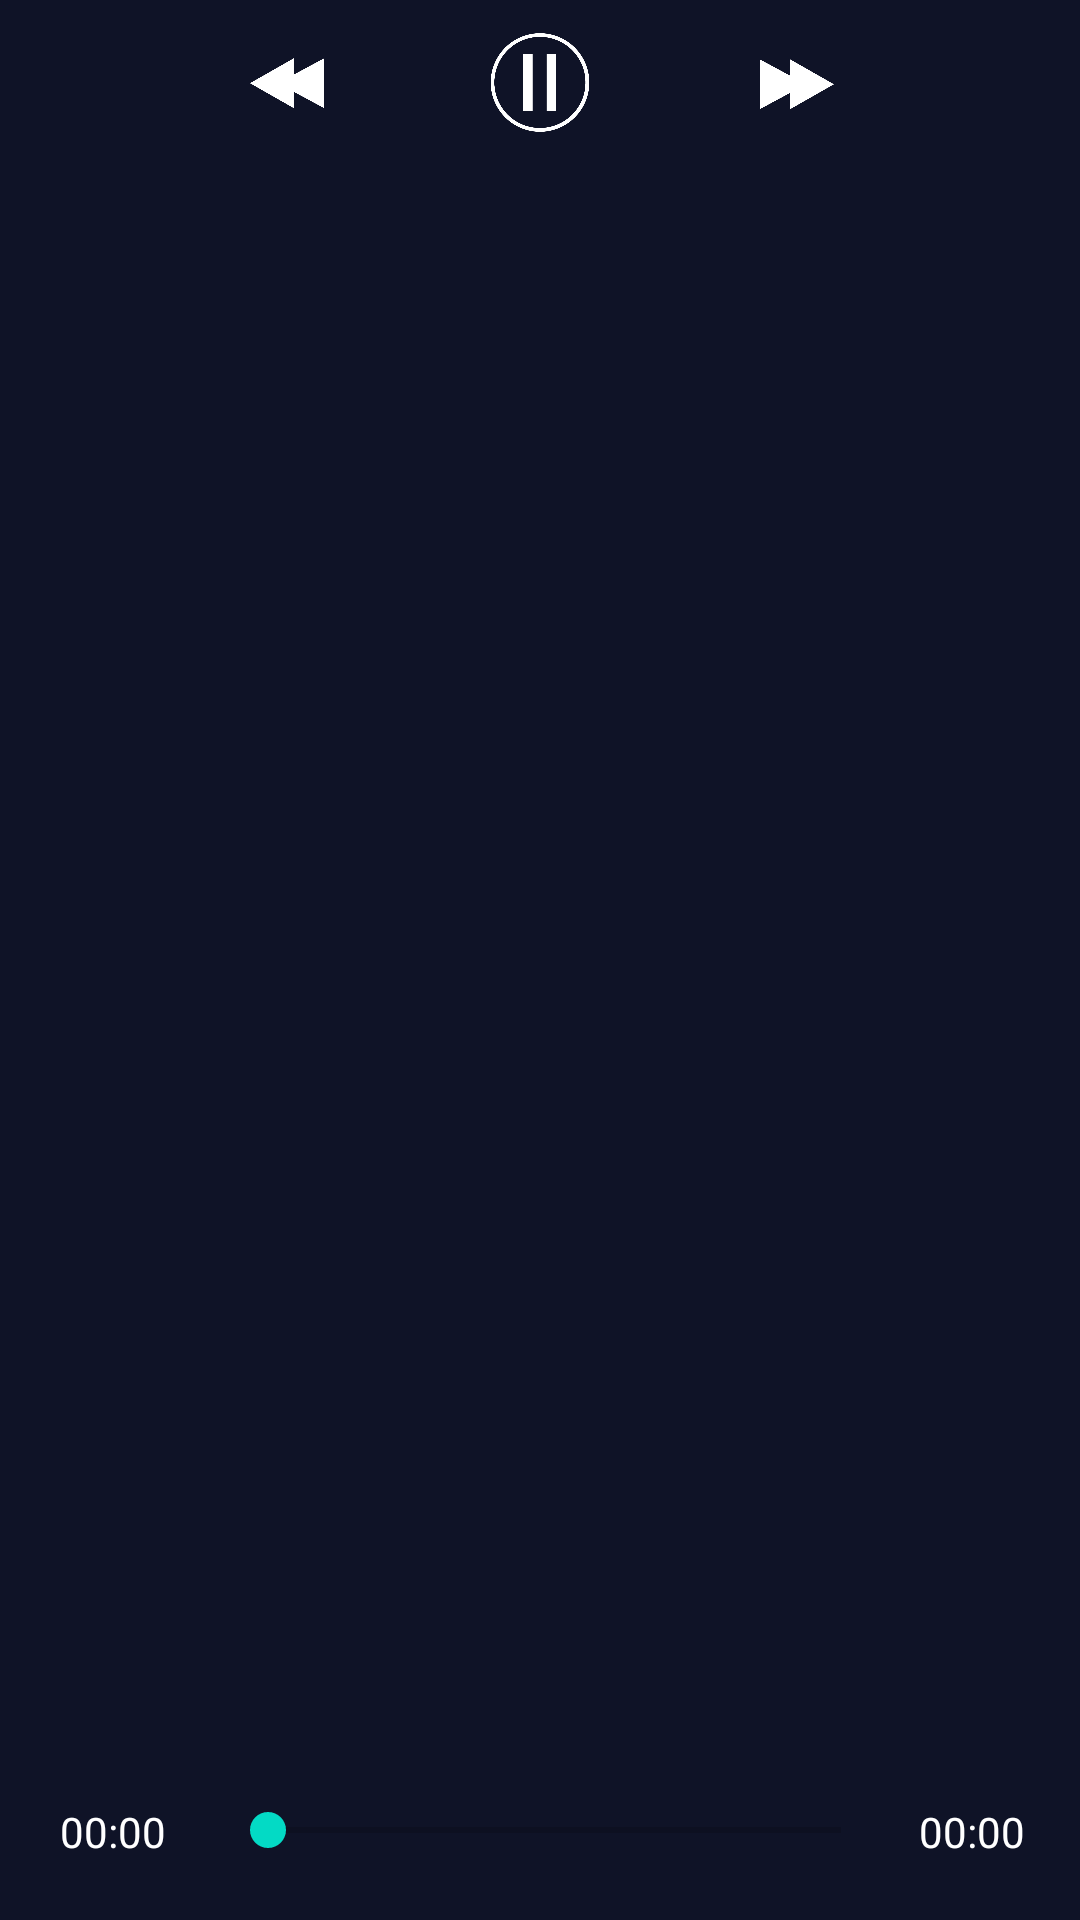

Icons on this 1080 x 1920 Android screen, each with the point to tap as (x=x, y=y):
next: (x=797, y=84)
pauses: (x=540, y=82)
prev: (x=287, y=83)
